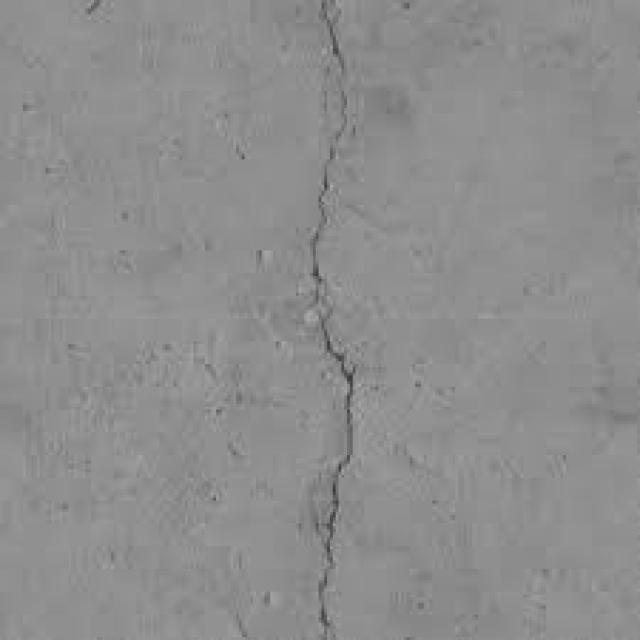crack: (311, 20, 353, 639)
